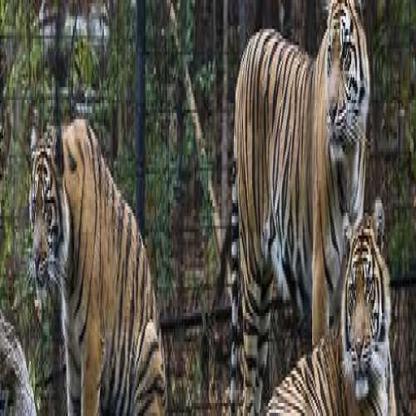Tiger: (14, 66, 205, 415), (215, 0, 415, 294), (276, 207, 416, 415)
